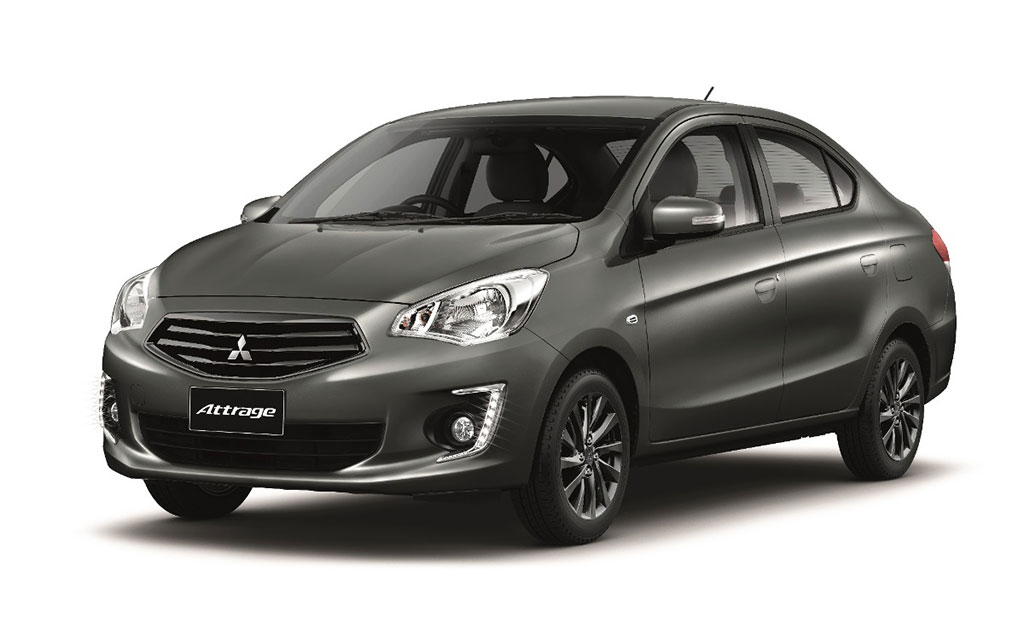sedan: (98, 93, 961, 546)
